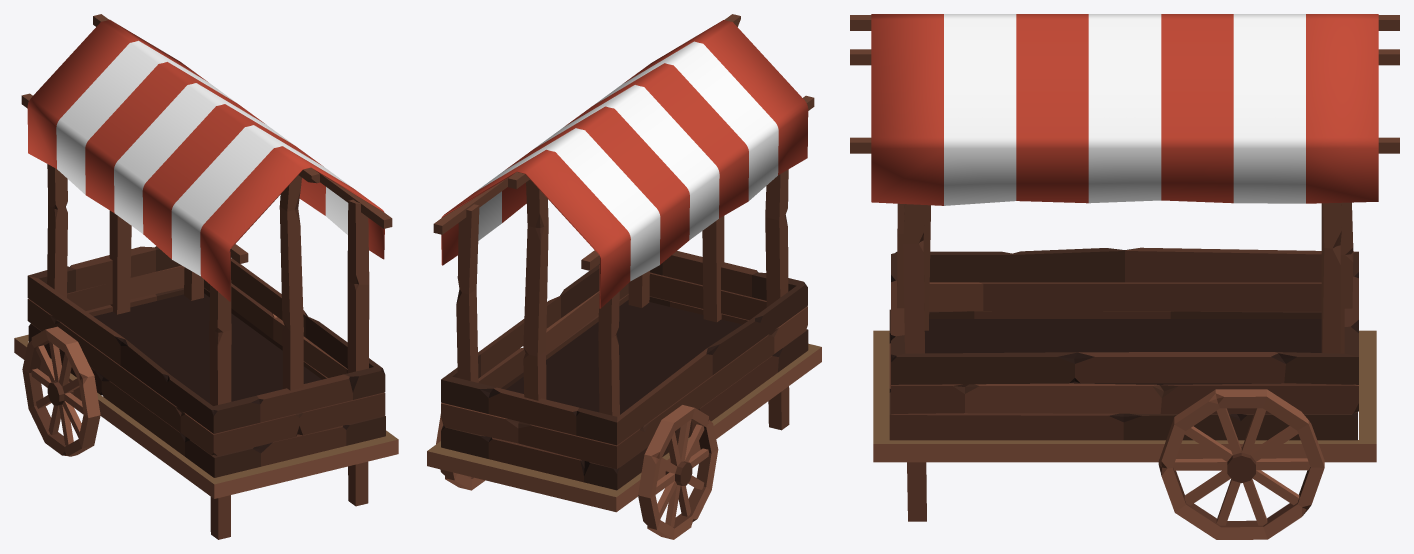
File: Store_03.glb
3 renders of one model, left to right at view 1: azimuth 30°, elevation 25°; view 2: azimuth 150°, elevation 25°; view 3: azimuth 270°, elevation 25°, orthographic. The views are drawn at different scales.
Visible parts, largest first — view 1: Store_03; view 2: Store_03; view 3: Store_03.
Part boxes in pixels (<box>): Store_03: <box>14,14,398,539</box>; Store_03: <box>427,14,821,539</box>; Store_03: <box>850,14,1399,539</box>.
Size of what is drawn, in the model's own units: 1.54 by 2.52 by 2.74.
Materials: 1 (1 with a texture image).
